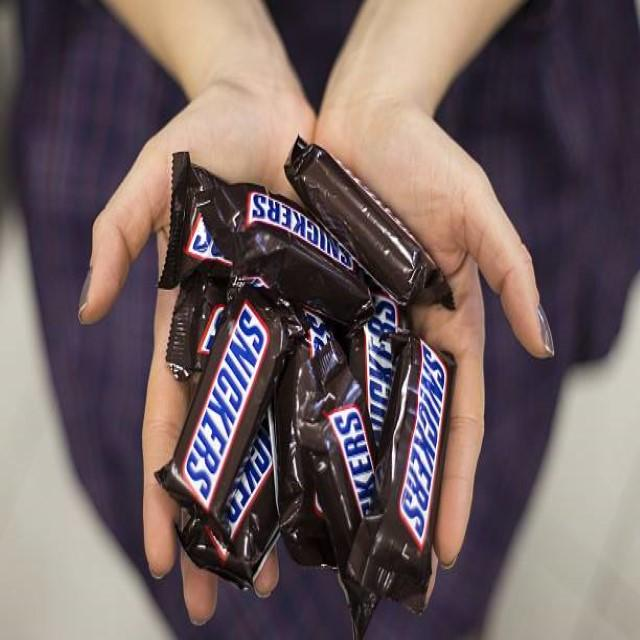snickers_chocolate: (222, 158, 382, 288), (206, 313, 266, 557), (320, 388, 395, 582), (398, 332, 438, 573), (358, 288, 400, 452)
